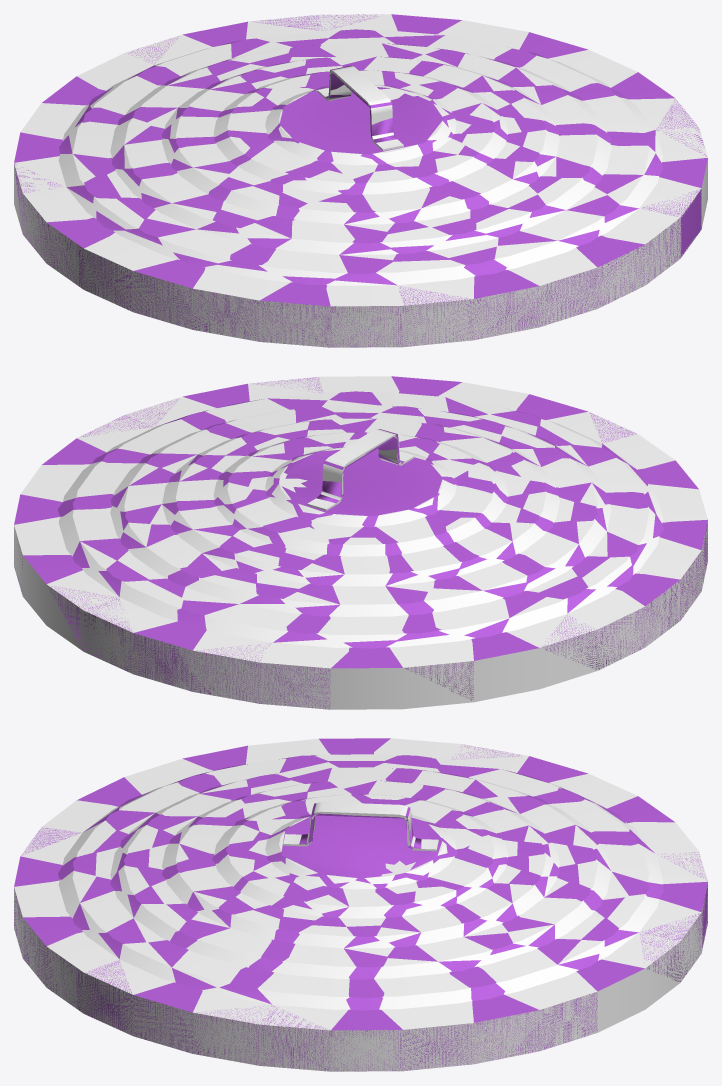
The model's file is Trash_lid.fbx.
The picture shows the model from 3 angles, top to bottom: view 1: azimuth 30°, elevation 25°; view 2: azimuth 150°, elevation 25°; view 3: azimuth 270°, elevation 25°; orthographic projection.
Parts seen in each view (by area): view 1: trashcan_lid_LOD0, UTM_trashcan_lid_COL; view 2: trashcan_lid_LOD0, UTM_trashcan_lid_COL; view 3: trashcan_lid_LOD0, UTM_trashcan_lid_COL.
Boxes of the visible parts, <box> form: trashcan_lid_LOD0: <box>14,14,707,347</box>; UTM_trashcan_lid_COL: <box>14,14,707,347</box>; trashcan_lid_LOD0: <box>14,376,707,709</box>; UTM_trashcan_lid_COL: <box>14,376,707,709</box>; trashcan_lid_LOD0: <box>14,738,707,1071</box>; UTM_trashcan_lid_COL: <box>14,738,707,1071</box>.
Size of what is drawn, in the model's own units: 50.38 by 9.43 by 50.56.
